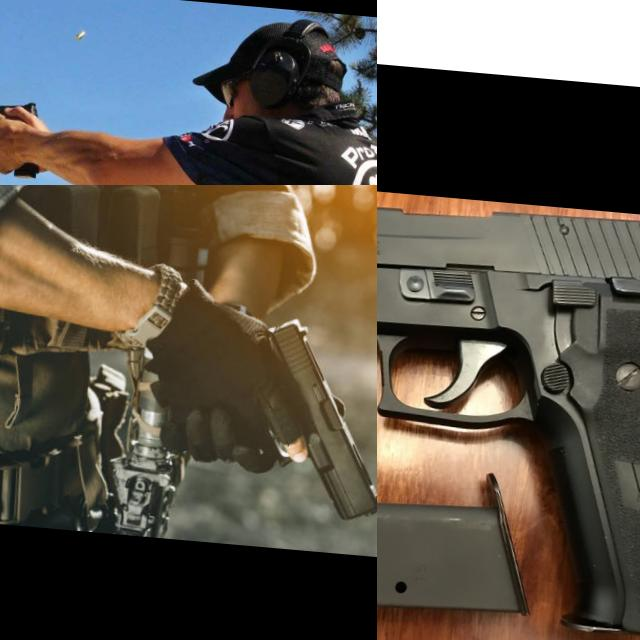handgun: (377, 185, 640, 640), (377, 0, 547, 181), (248, 313, 377, 527), (0, 92, 49, 139)
